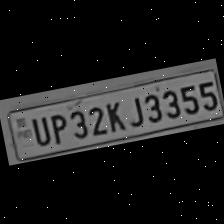2: (82, 101, 108, 138)
3: (138, 88, 164, 124), (64, 105, 89, 141), (159, 85, 182, 120)
5: (194, 76, 220, 113), (176, 81, 200, 116)
J: (120, 92, 146, 130)
K: (100, 97, 127, 134)
P: (45, 110, 69, 146)
U: (26, 114, 50, 148)
